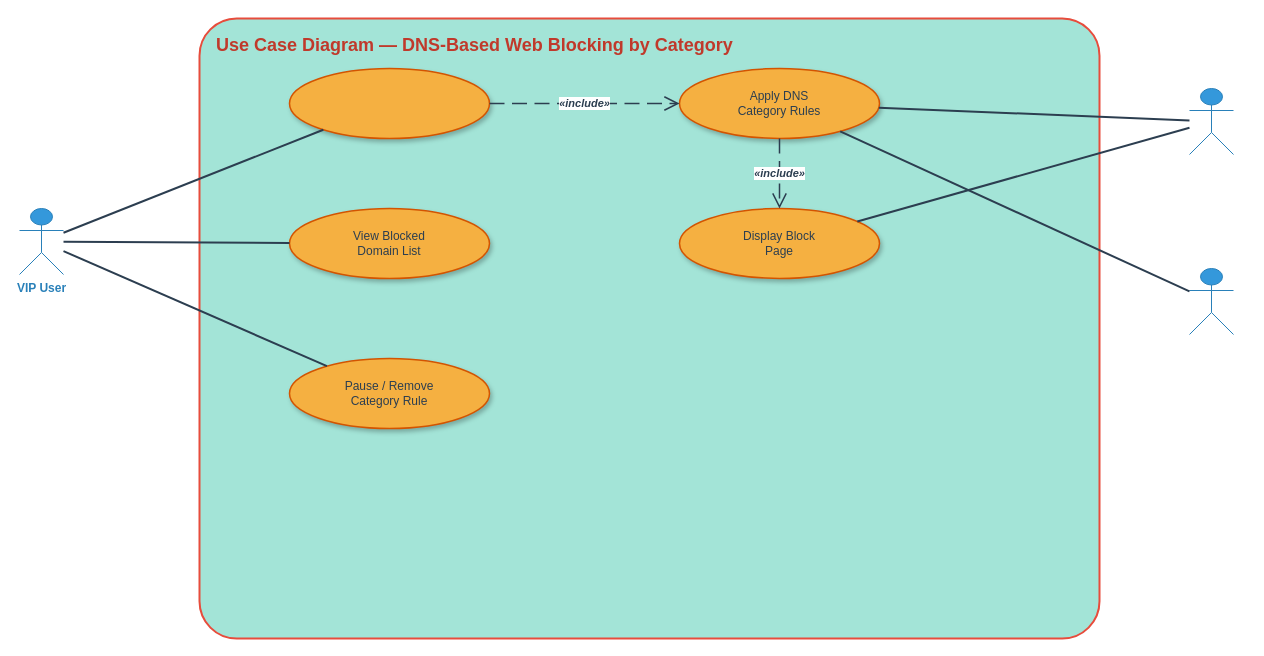
Image size: 1264x656. Some labels were removed from this diagram. Each missing label, with the centre of its shape:
DNS Filtering Service: pixel 1211 121
Select Blocking Categories: pixel 390 104
Supabase DB: pixel 1211 301
